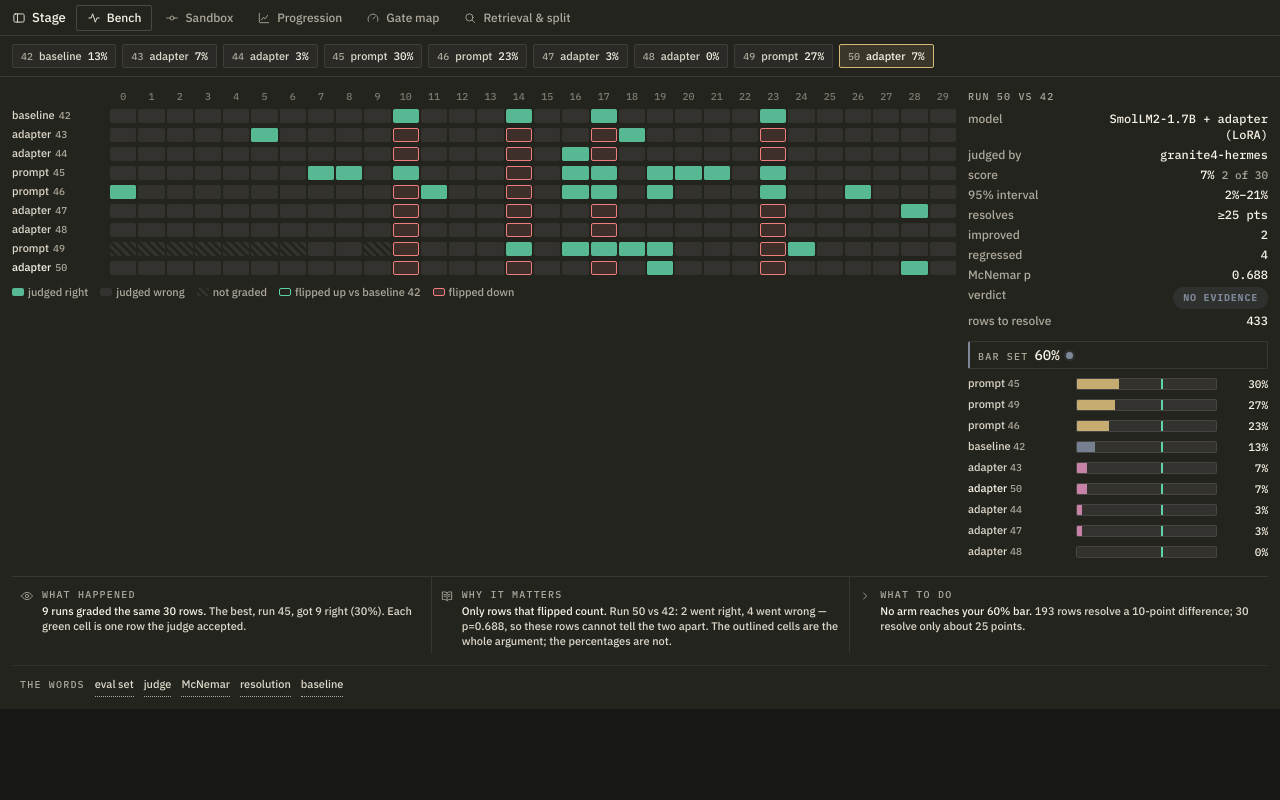
it: one selection across sizes › a click on a run chip changes the selection the Bench states
What coordinates should you click on to do the following:
click the option "47 adapter 3%"
I would click on:
 (580, 56)
Its box is [533,44,628,68].
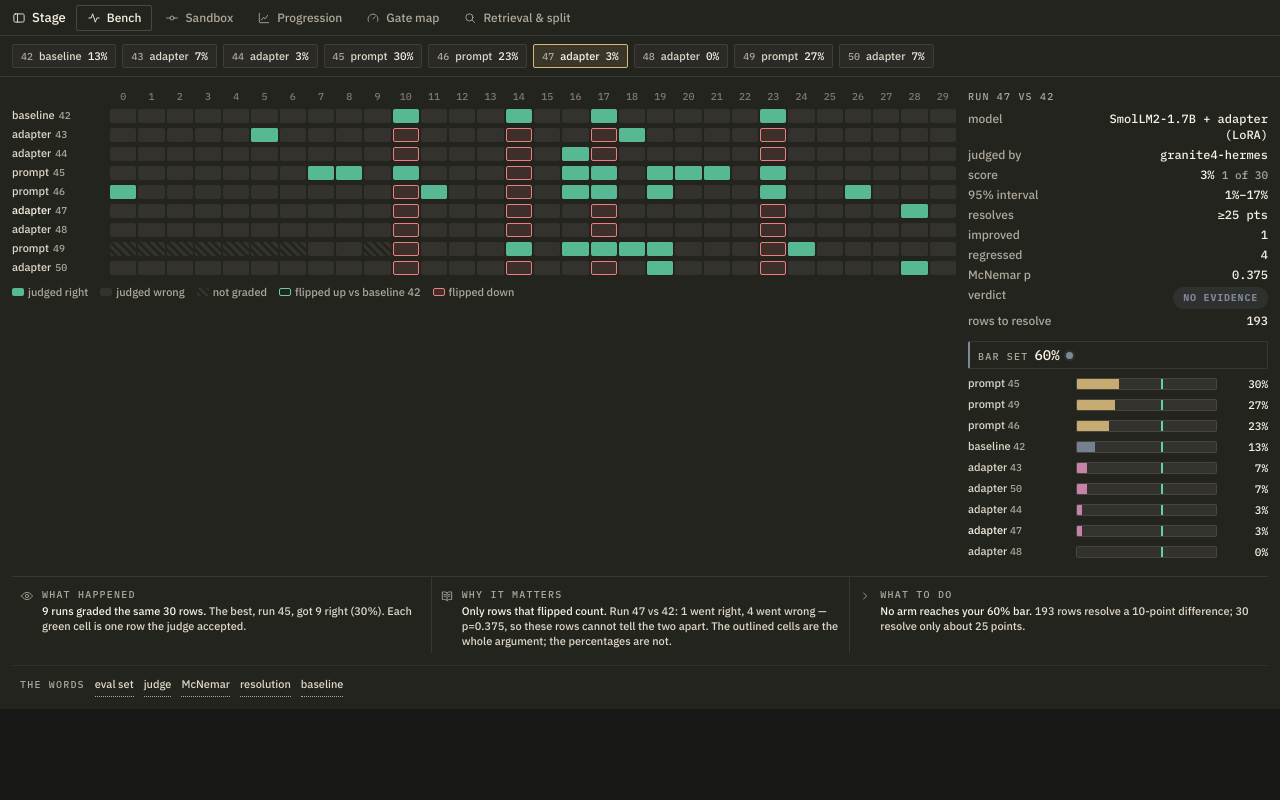
Now the text "run 47 vs 42" is shown, box [968,90,1054,103]
